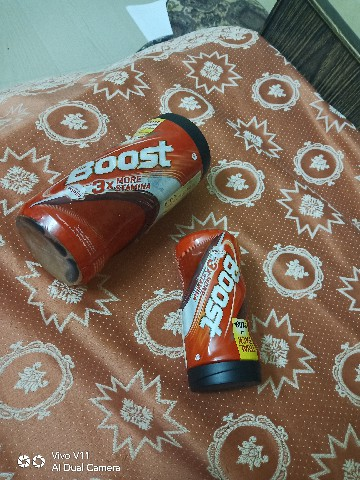boost big: (8, 99, 211, 286)
boost small: (172, 225, 265, 398)
